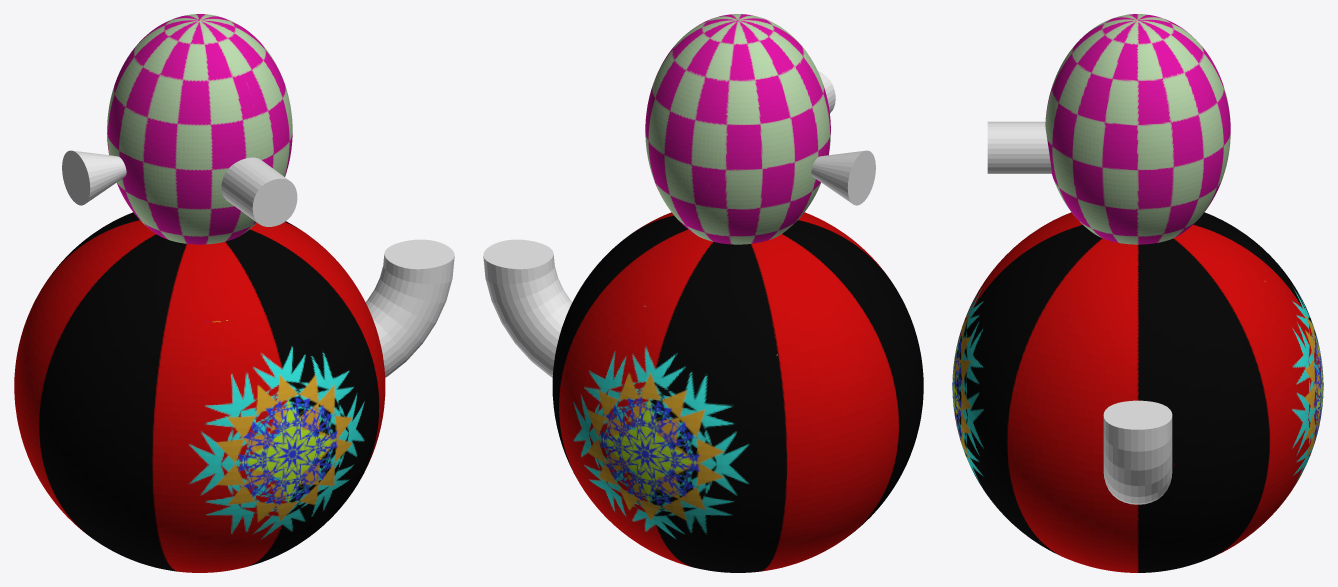
Rendered from BOD0_BMC1_BCC4_BPT2_FRC30_HEA2_HMC10_HCC14_HPT4_ELT3_ERT0_ELL0_ERL1_AP2_AAL1_AAR0_BEK1.fbx.
The picture shows the model from 3 angles, left to right: view 1: azimuth 30°, elevation 25°; view 2: azimuth 150°, elevation 25°; view 3: azimuth 270°, elevation 25°; orthographic projection.
Parts seen in each view (by area): view 1: Body, Arm, Beak, Ear; view 2: Body, Arm, Ear; view 3: Body, Arm, Beak.
Part boxes in pixels (bbox=[...]): Body: bbox=[14, 14, 385, 572]; Arm: bbox=[365, 239, 454, 377]; Beak: bbox=[221, 157, 297, 226]; Ear: bbox=[62, 150, 126, 205]; Body: bbox=[552, 14, 923, 572]; Arm: bbox=[483, 239, 572, 377]; Ear: bbox=[811, 150, 875, 205]; Body: bbox=[952, 14, 1323, 572]; Arm: bbox=[1103, 400, 1172, 504]; Beak: bbox=[987, 121, 1051, 173].
Bounding box in the file's own units: 62.99 × 78.65 × 49.36.
1 material, 1 textured.
